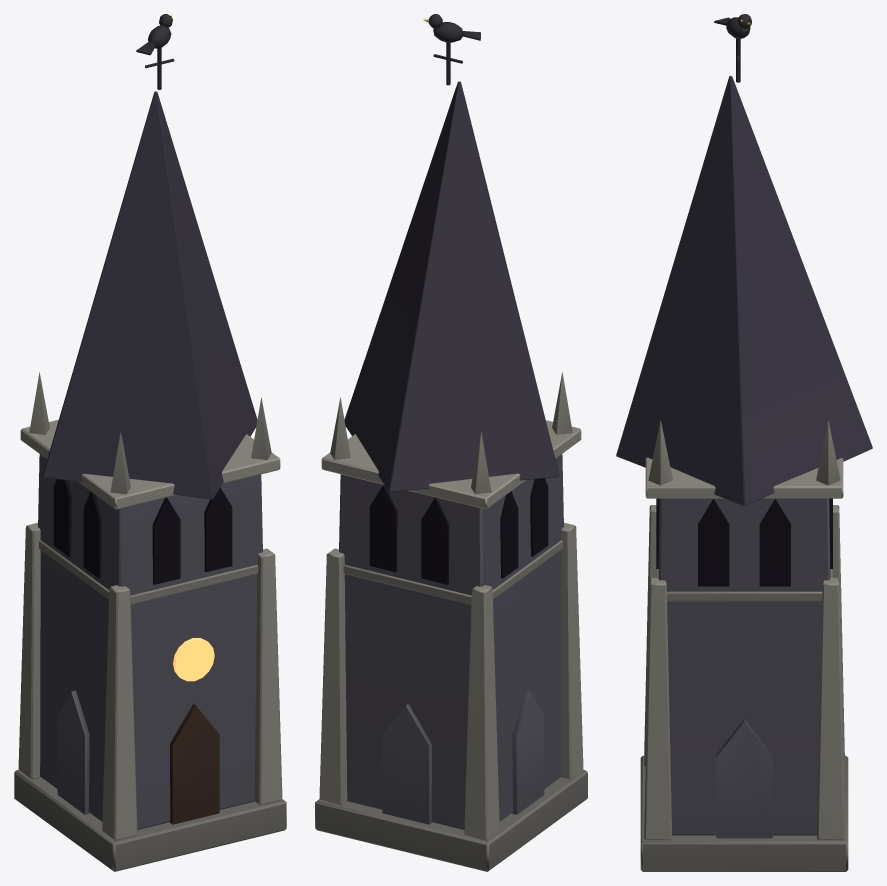
The model's file is env_spire.glb.
The picture shows the model from 3 angles, left to right: view 1: azimuth 30°, elevation 25°; view 2: azimuth 150°, elevation 25°; view 3: azimuth 270°, elevation 25°; orthographic projection. The views are drawn at different scales.
Visible parts, largest first — view 1: env_spire; view 2: env_spire; view 3: env_spire.
Boxes of the visible parts, bbox=[...] form: env_spire: bbox=[14, 14, 286, 871]; env_spire: bbox=[315, 14, 587, 871]; env_spire: bbox=[616, 14, 872, 871].
Bounding box in the file's own units: 4.58 × 16.17 × 4.57.
